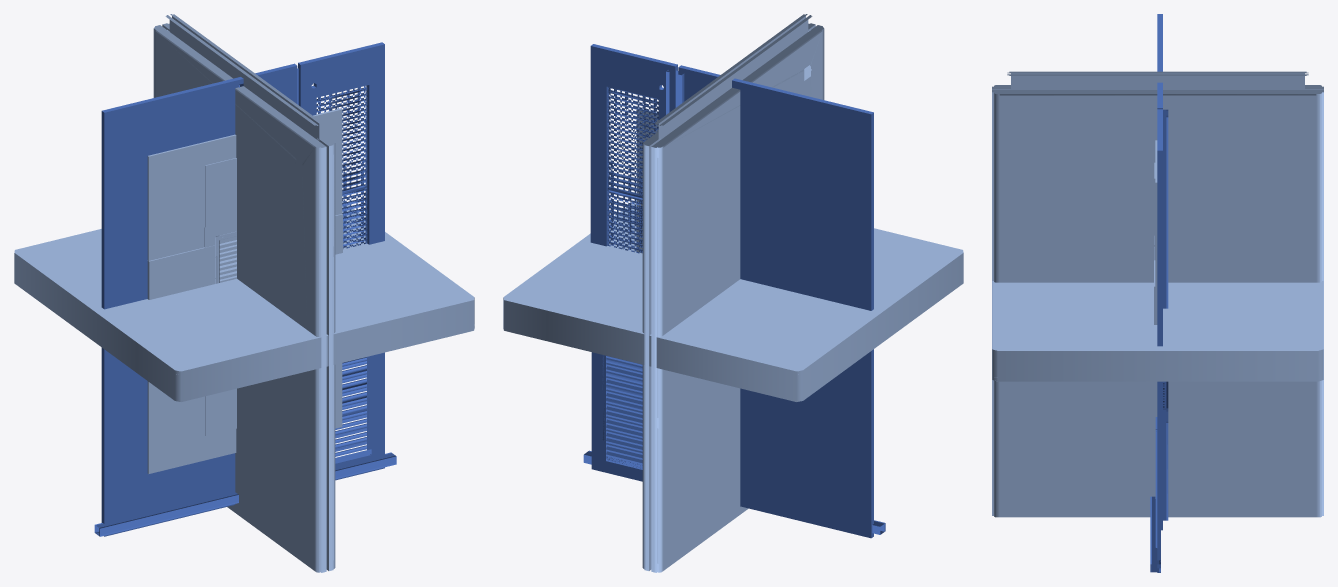
3 renders of one model, left to right at view 1: azimuth 30°, elevation 25°; view 2: azimuth 150°, elevation 25°; view 3: azimuth 270°, elevation 25°, orthographic.
Visible parts, largest first — view 1: Cube.038, 3d66_Editable_mesh_21797354_212.004, 底座.004, Cube.035, 底座.001, 3d66_Editable_mesh_21797354_157.004, Cube.032, Cube.036, 3d66_Editable_mesh_21797354_149.004, 3d66_Editable_mesh_21797354_117.004; view 2: Cube.038, 3d66_Editable_mesh_21797354_212.004, 底座.004, 底座.001, 3d66_Editable_mesh_21797354_157.004, 3d66_Editable_mesh_21797354_149.004; view 3: 3d66_Editable_mesh_21797354_157.004, 底座.004, Cube.038, 3d66_Editable_mesh_21797354_149.004, 底座.001, 3d66_Editable_mesh_21797354_212.004, Cube.035.
Boxes of the visible parts, bbox=[...] form: Cube.038: bbox=[101, 42, 384, 536]; 3d66_Editable_mesh_21797354_212.004: bbox=[153, 15, 333, 572]; 底座.004: bbox=[14, 201, 474, 398]; Cube.035: bbox=[147, 108, 342, 473]; 底座.001: bbox=[14, 257, 474, 401]; 3d66_Editable_mesh_21797354_157.004: bbox=[162, 14, 335, 570]; Cube.032: bbox=[205, 158, 236, 436]; Cube.036: bbox=[147, 214, 342, 299]; 3d66_Editable_mesh_21797354_149.004: bbox=[94, 68, 396, 536]; 3d66_Editable_mesh_21797354_117.004: bbox=[215, 231, 236, 283]; Cube.038: bbox=[590, 44, 873, 538]; 3d66_Editable_mesh_21797354_212.004: bbox=[651, 15, 824, 572]; 底座.004: bbox=[503, 200, 963, 398]; 底座.001: bbox=[503, 256, 963, 401]; 3d66_Editable_mesh_21797354_157.004: bbox=[642, 14, 815, 570]; 3d66_Editable_mesh_21797354_149.004: bbox=[583, 70, 885, 534]; 3d66_Editable_mesh_21797354_157.004: bbox=[992, 74, 1323, 517]; 底座.004: bbox=[992, 281, 1323, 377]; Cube.038: bbox=[1155, 14, 1162, 572]; 3d66_Editable_mesh_21797354_149.004: bbox=[1150, 109, 1168, 572]; 底座.001: bbox=[992, 353, 1323, 381]; 3d66_Editable_mesh_21797354_212.004: bbox=[992, 71, 1323, 89]; Cube.035: bbox=[1155, 140, 1157, 498].
Bounding box in the file's own units: 101 × 142 × 97.35.
